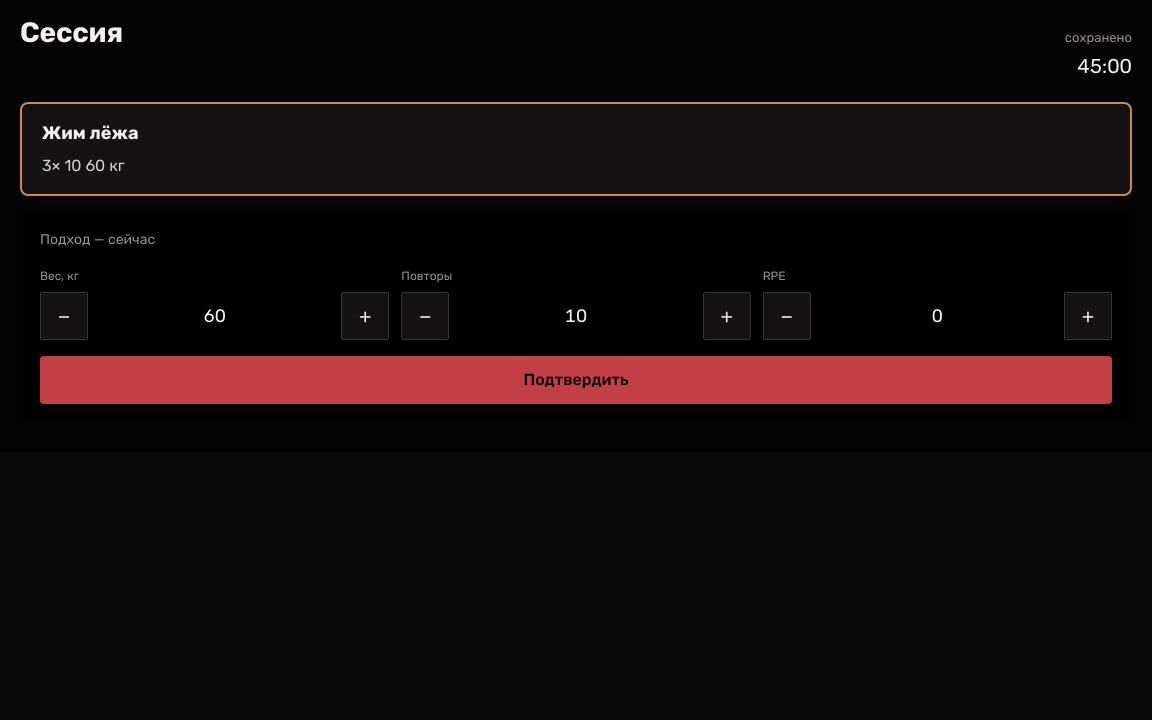
it: SessionWorkoutView › starts rest timer after solo exercise set is saved
Click the button with test id "session-set-confirm" at (576, 380), box [40,356,1112,404]
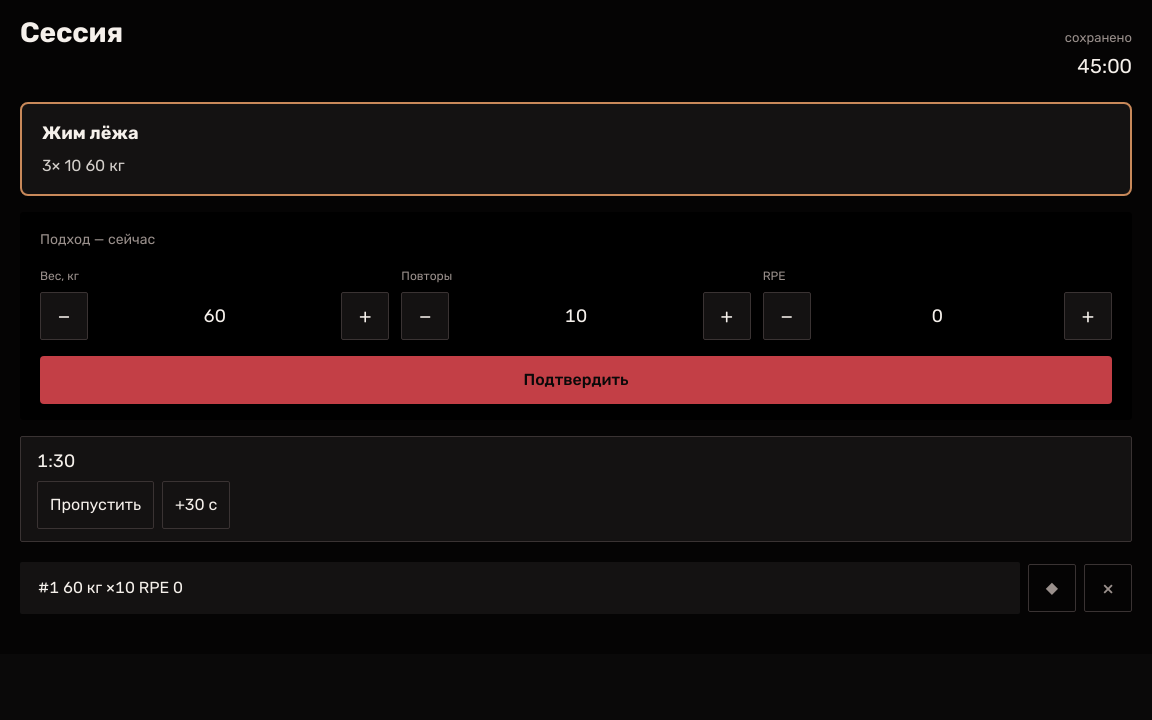
Expected: the text with test id "session-set-sync-indicator" reads "сохранено", [1065,30,1132,45]
Expected: the element with test id "session-rest-timer" is shown, [20,436,1132,542]
Expected: the text with test id "session-rest-timer-label" reads "1:30", [37,450,75,472]
